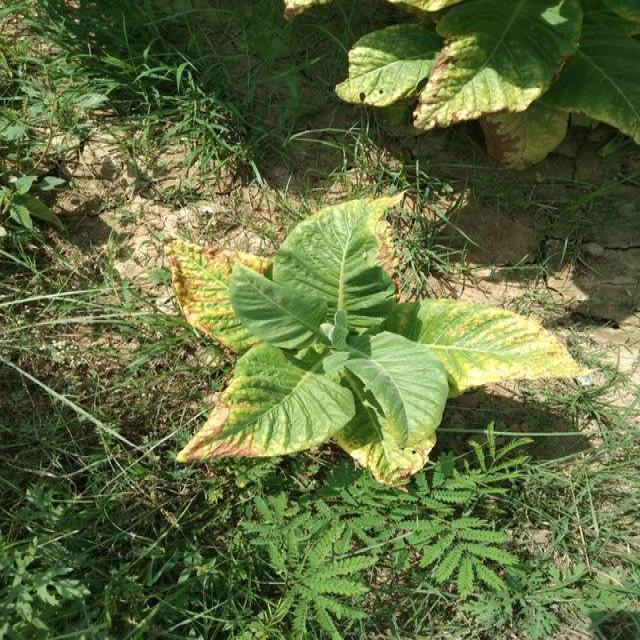crop: (169, 182, 579, 469), (338, 0, 639, 147)
